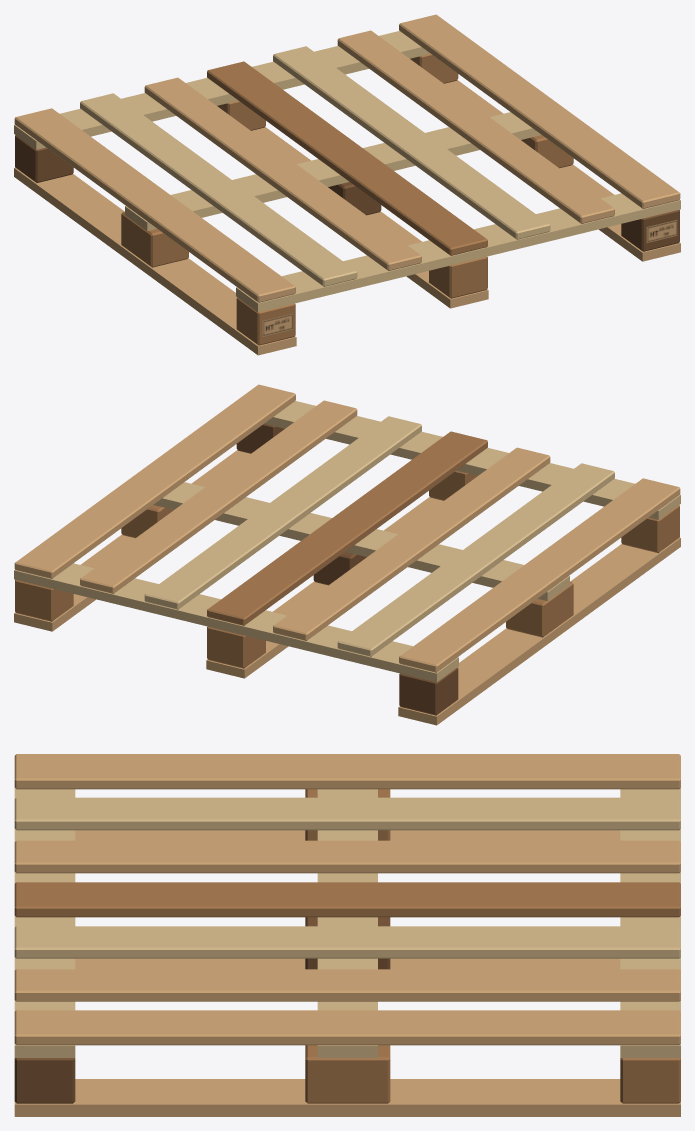
Rendered from SC_Ter_Pallet_Wood.gltf.
3 renders of one model, top to bottom at view 1: azimuth 30°, elevation 25°; view 2: azimuth 150°, elevation 25°; view 3: azimuth 270°, elevation 25°, orthographic. The views are drawn at different scales.
Visible parts, largest first — view 1: SC_Ter_Pallet_Wood; view 2: SC_Ter_Pallet_Wood; view 3: SC_Ter_Pallet_Wood.
Part boxes in pixels (<box>): SC_Ter_Pallet_Wood: <box>14,14,680,355</box>; SC_Ter_Pallet_Wood: <box>14,384,680,725</box>; SC_Ter_Pallet_Wood: <box>14,754,680,1116</box>.
Size of the model in its own units: 1.1 by 0.149 by 1.1.
Materials: 2 (2 with a texture image).
